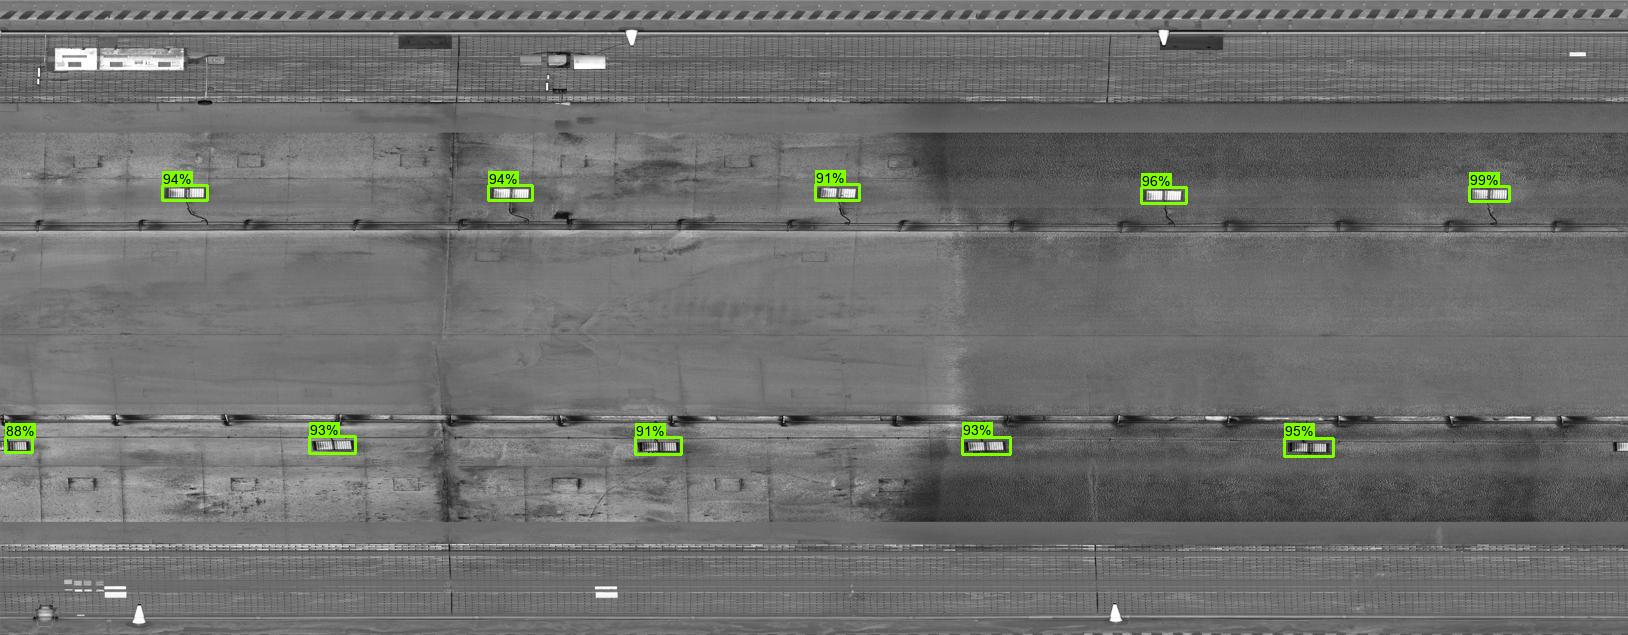light: (158, 181, 212, 204), (485, 180, 539, 203), (809, 182, 863, 205), (1463, 182, 1517, 205), (306, 435, 360, 458), (632, 433, 686, 455), (958, 434, 1012, 457), (1134, 185, 1188, 208), (1279, 436, 1333, 459), (1, 434, 37, 455), (1607, 435, 1628, 457)
